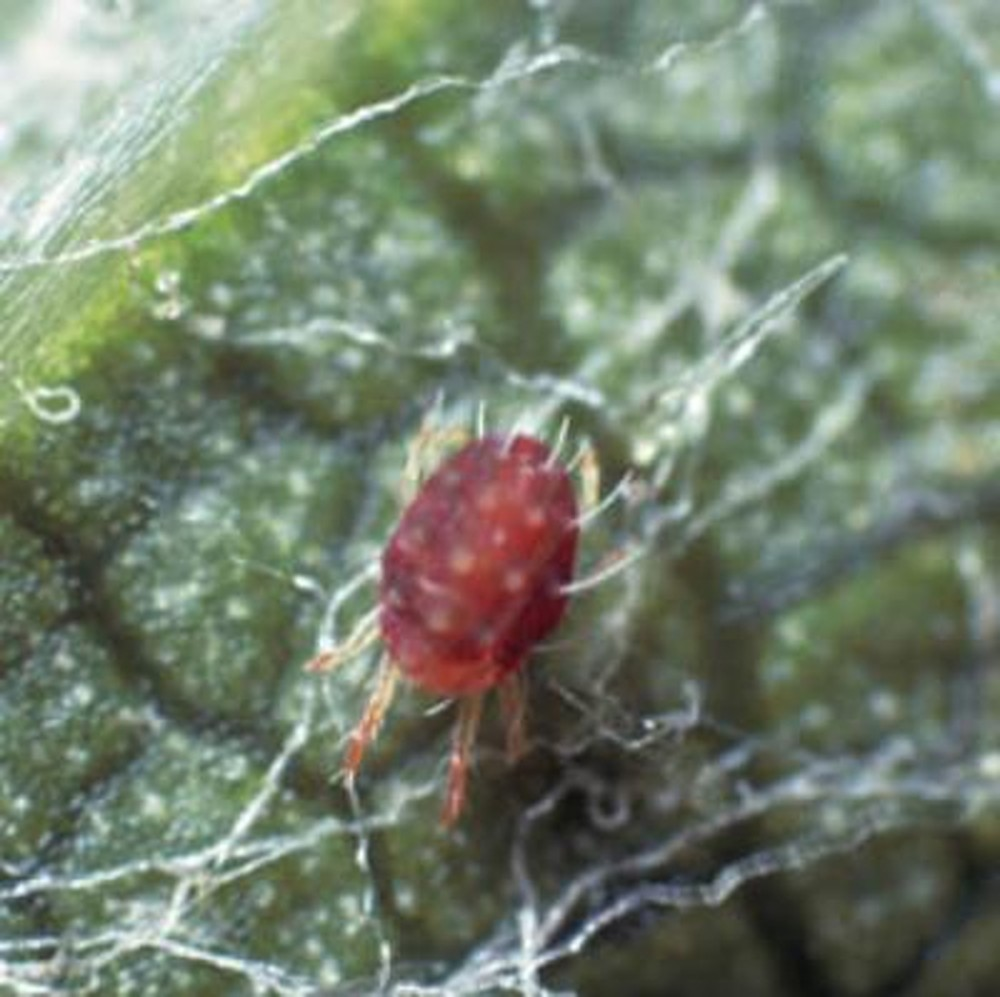Aracnido Rojo: (301, 391, 665, 844)
